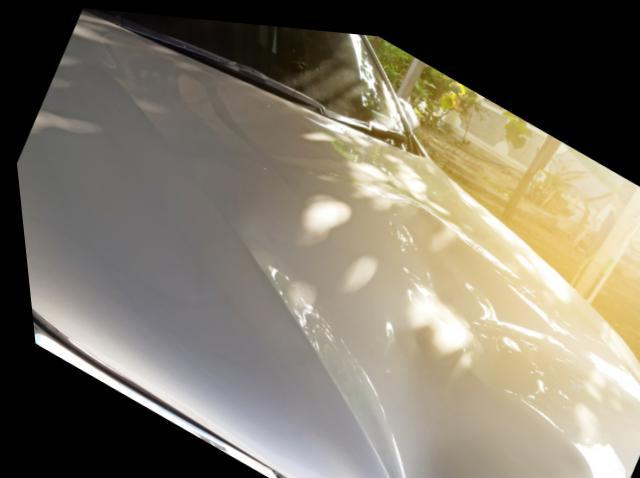dent: (372, 316, 583, 478)
